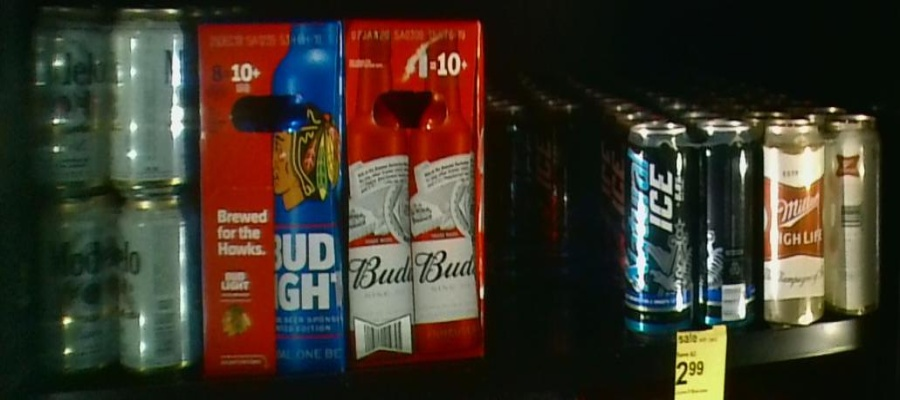bottle: (25, 1, 199, 370), (202, 17, 346, 368), (344, 13, 482, 361), (626, 125, 753, 328), (762, 120, 881, 322), (492, 104, 592, 279)
